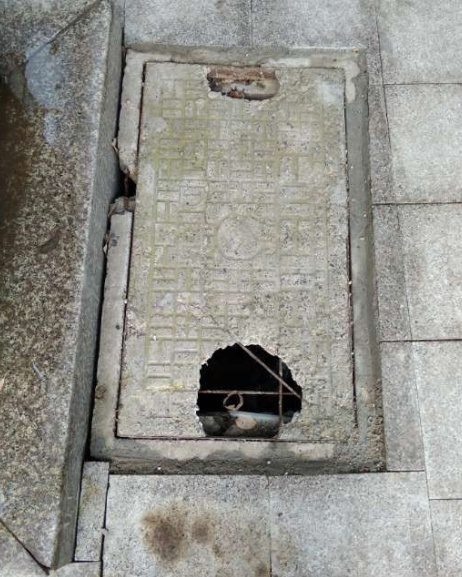broke: (91, 42, 380, 464)
